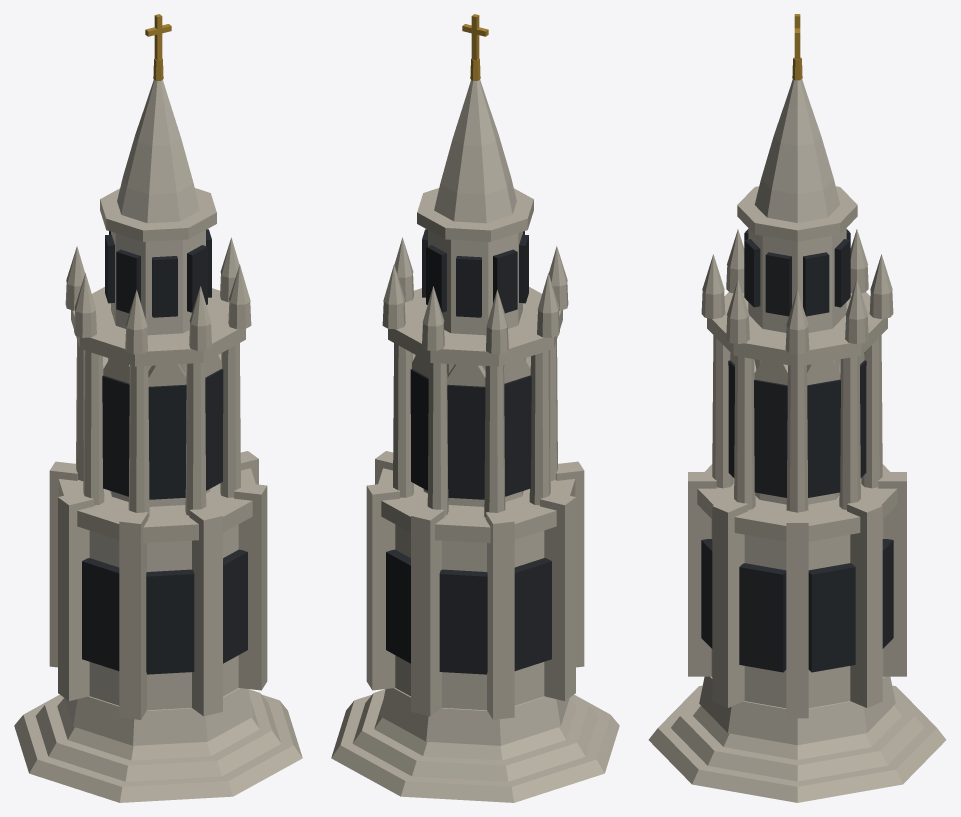
File: eleanor_cross_charing.glb
The picture shows the model from 3 angles, left to right: view 1: azimuth 30°, elevation 25°; view 2: azimuth 150°, elevation 25°; view 3: azimuth 270°, elevation 25°; orthographic projection.
Parts seen in each view (by area): view 1: eleanor_cross_charing; view 2: eleanor_cross_charing; view 3: eleanor_cross_charing.
Part boxes in pixels (x1=…): eleanor_cross_charing: x1=14, y1=14, x2=302, y2=802; eleanor_cross_charing: x1=331, y1=14, x2=619, y2=802; eleanor_cross_charing: x1=648, y1=14, x2=946, y2=802.
Bounding box in the file's own units: 7.83 × 21.01 × 7.83.
